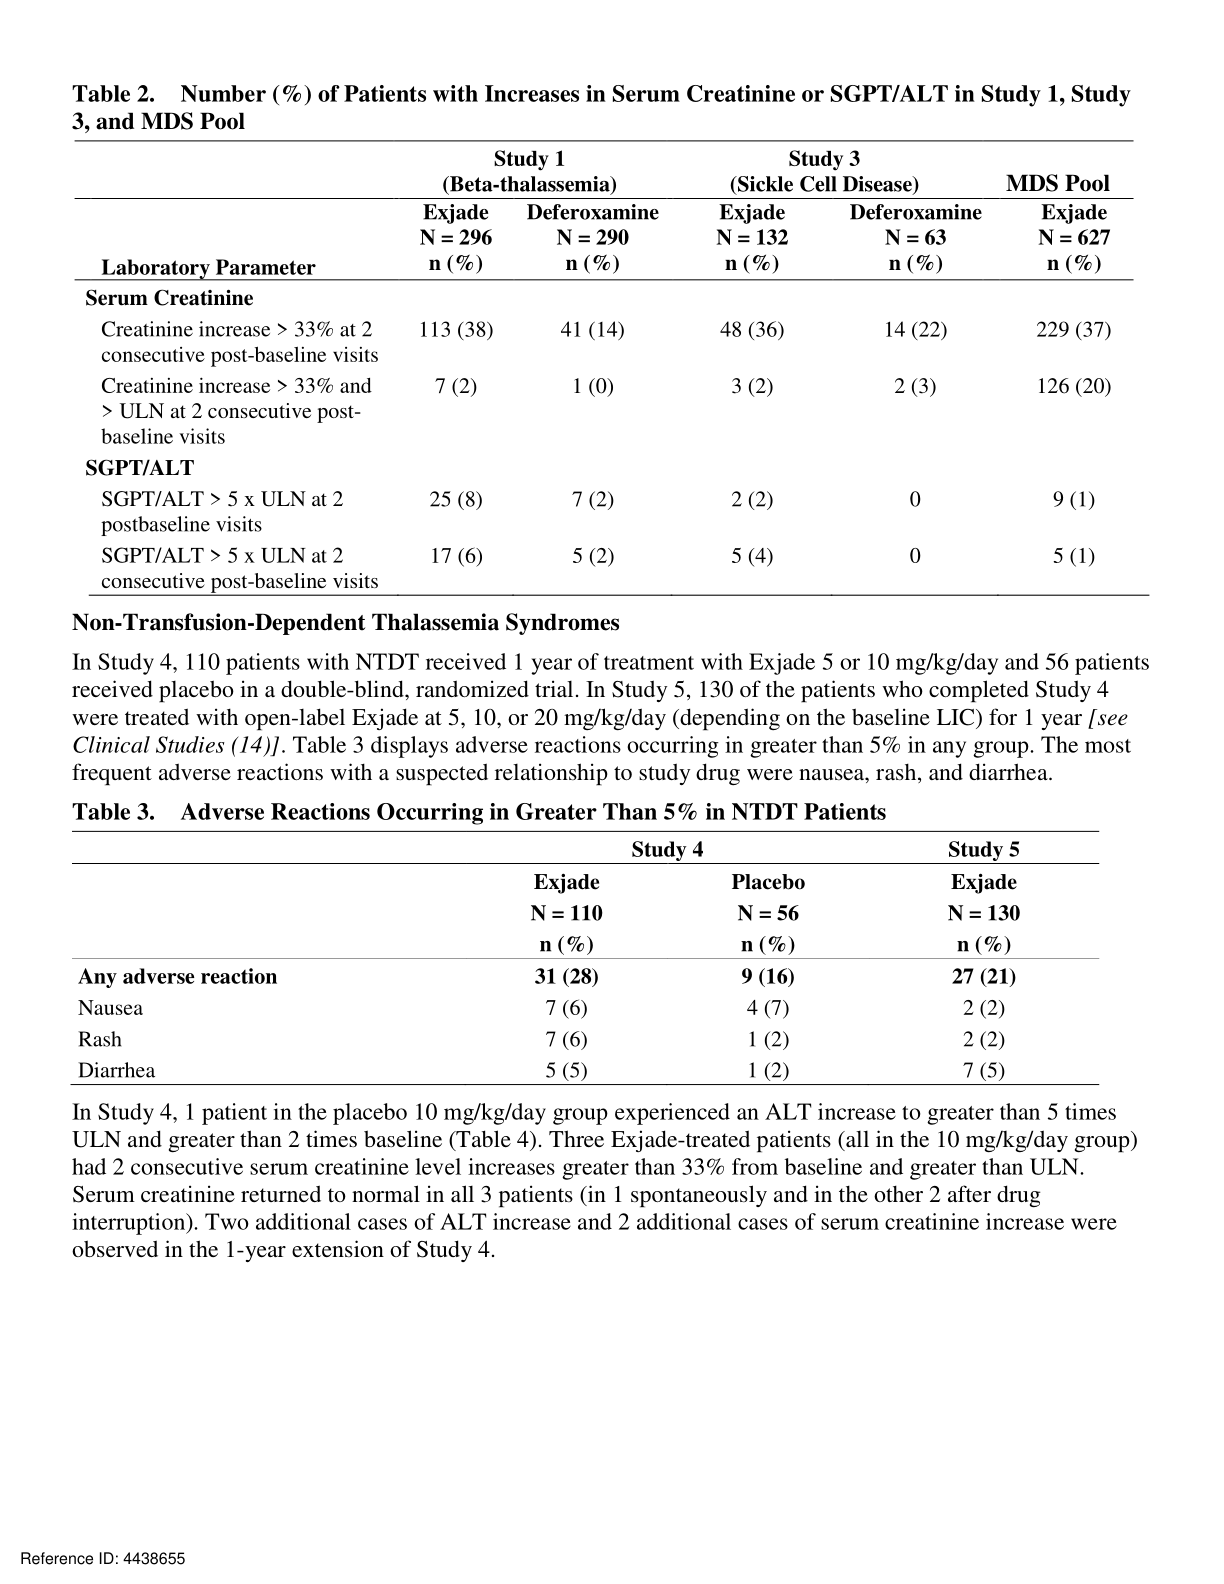partial_lined_merged_cells: (73, 138, 1149, 599), (71, 828, 1103, 1086)
